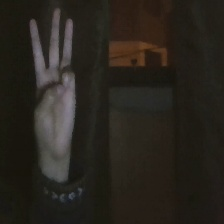W: (18, 1, 83, 160)
